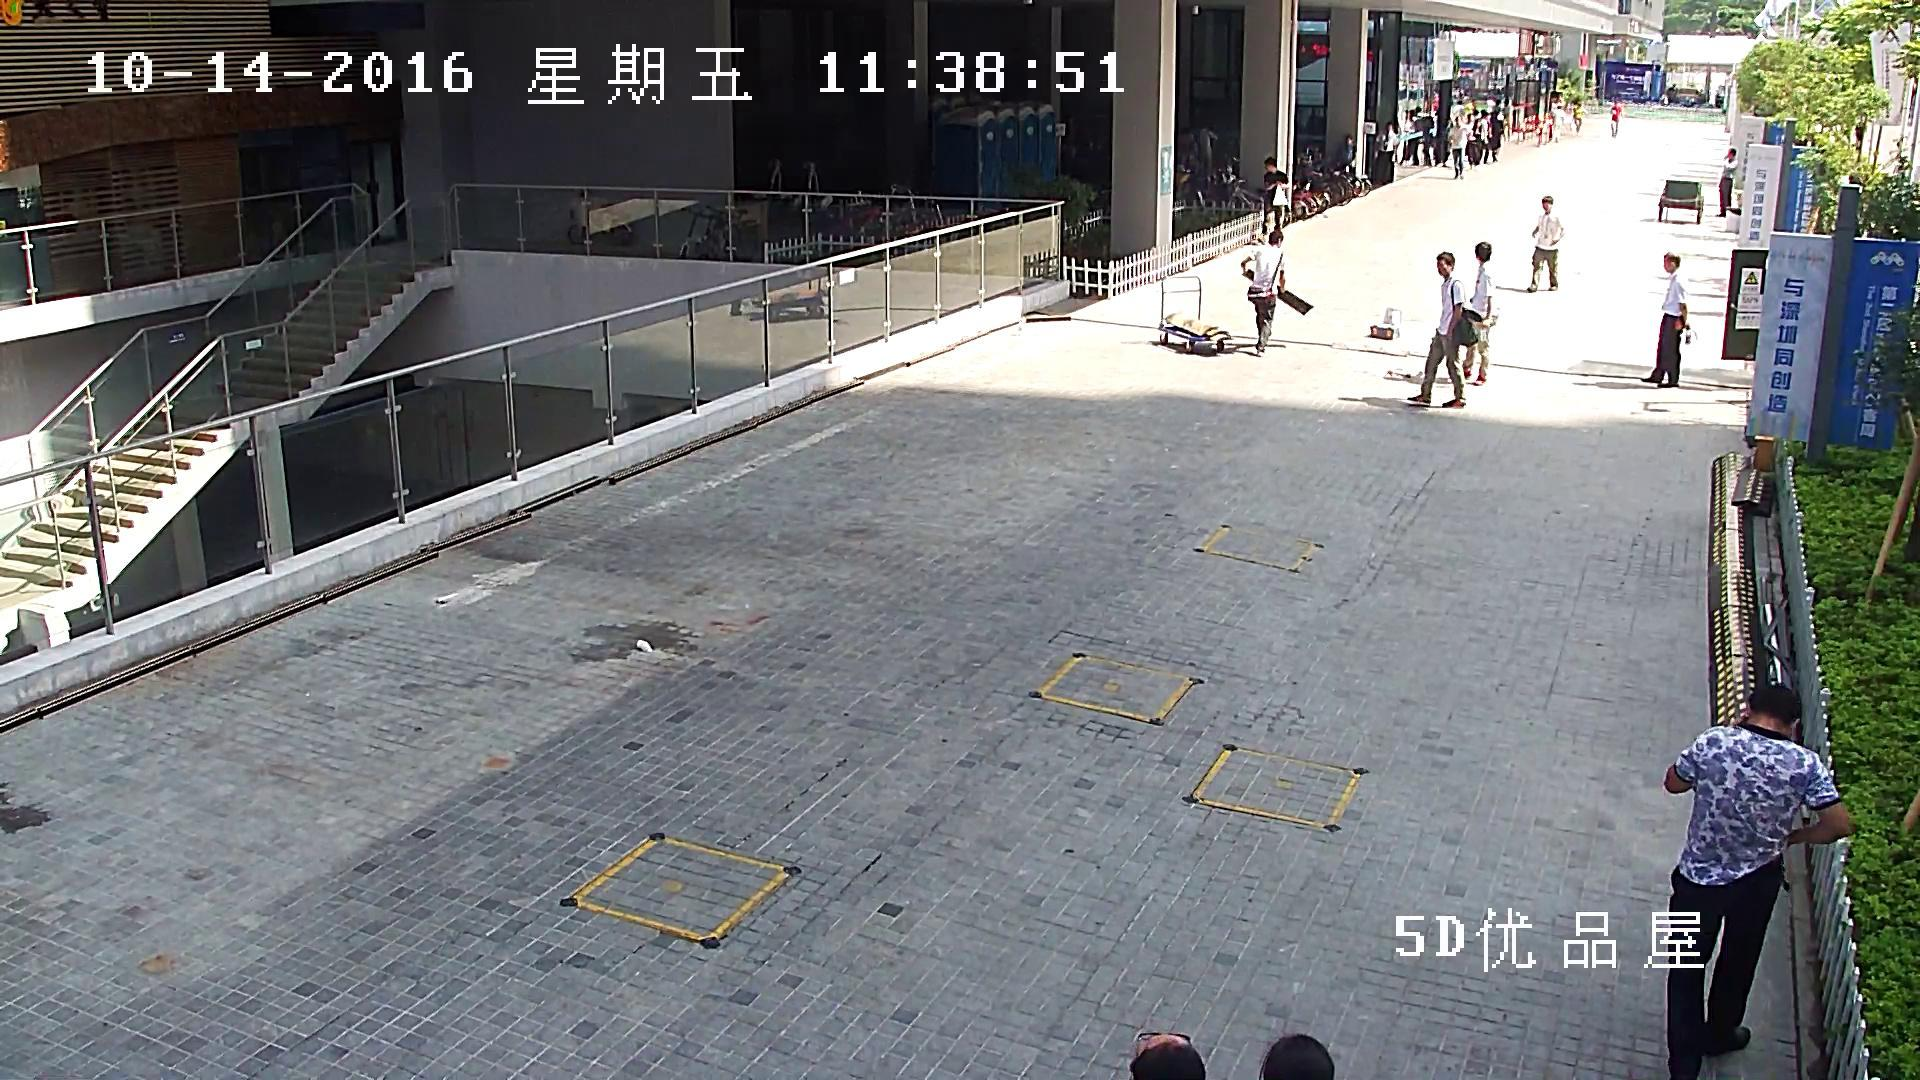person: (1664, 685, 1849, 1080), (1408, 251, 1481, 407), (1240, 230, 1313, 355), (1641, 252, 1691, 388), (1240, 231, 1285, 355), (1463, 242, 1493, 385), (1526, 195, 1563, 291), (1257, 157, 1289, 244), (1717, 148, 1737, 216), (1376, 121, 1397, 185), (1448, 116, 1466, 179), (1198, 123, 1217, 170), (1336, 135, 1356, 172), (1475, 109, 1489, 163), (1489, 112, 1500, 162), (1408, 110, 1418, 166), (1466, 114, 1475, 165), (1610, 101, 1621, 136), (1503, 99, 1511, 141), (1574, 104, 1583, 132), (1667, 83, 1676, 102), (1659, 92, 1668, 104)
